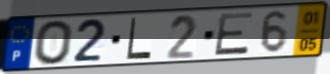2: (70, 16, 110, 67), (164, 12, 200, 60)
6: (259, 9, 290, 55)
E: (212, 10, 256, 57)
L: (124, 16, 154, 61)
O: (33, 18, 76, 67)
